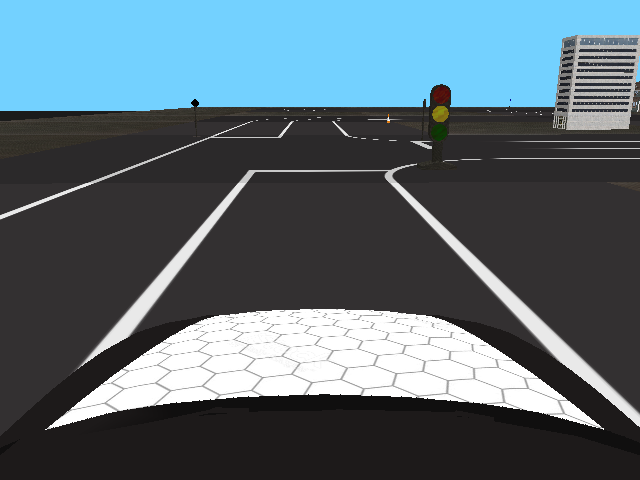yellow_light: (429, 85, 450, 143)
